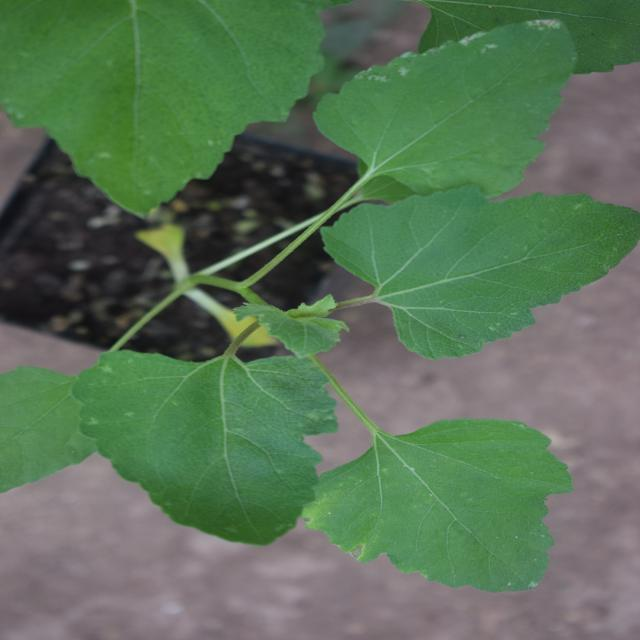cocklebur: (73, 78, 628, 602)
